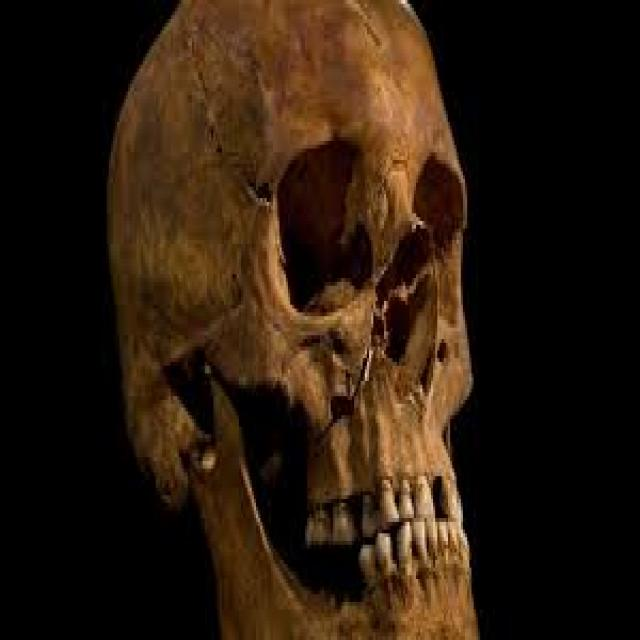skull: (103, 0, 505, 640)
